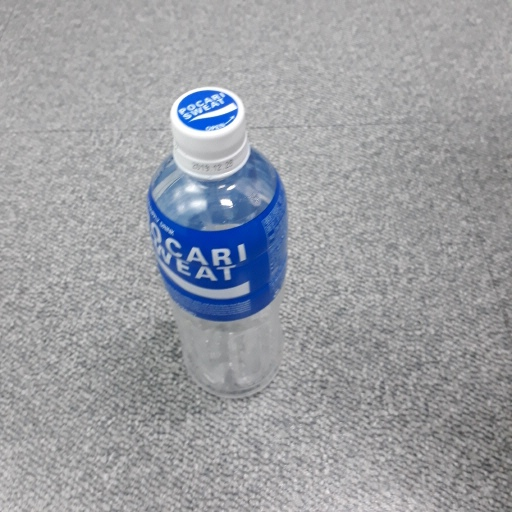Plastic_0: (142, 87, 290, 401)
